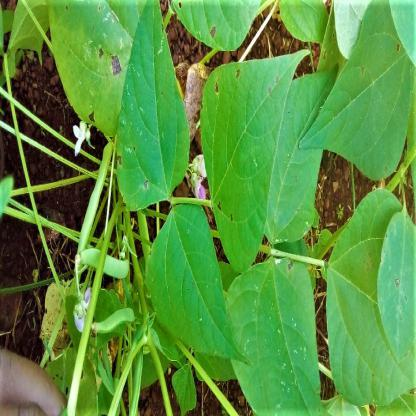Beans_Angular_LeafSpot: (196, 55, 299, 254), (114, 1, 190, 203), (232, 239, 315, 416), (45, 0, 126, 132)
